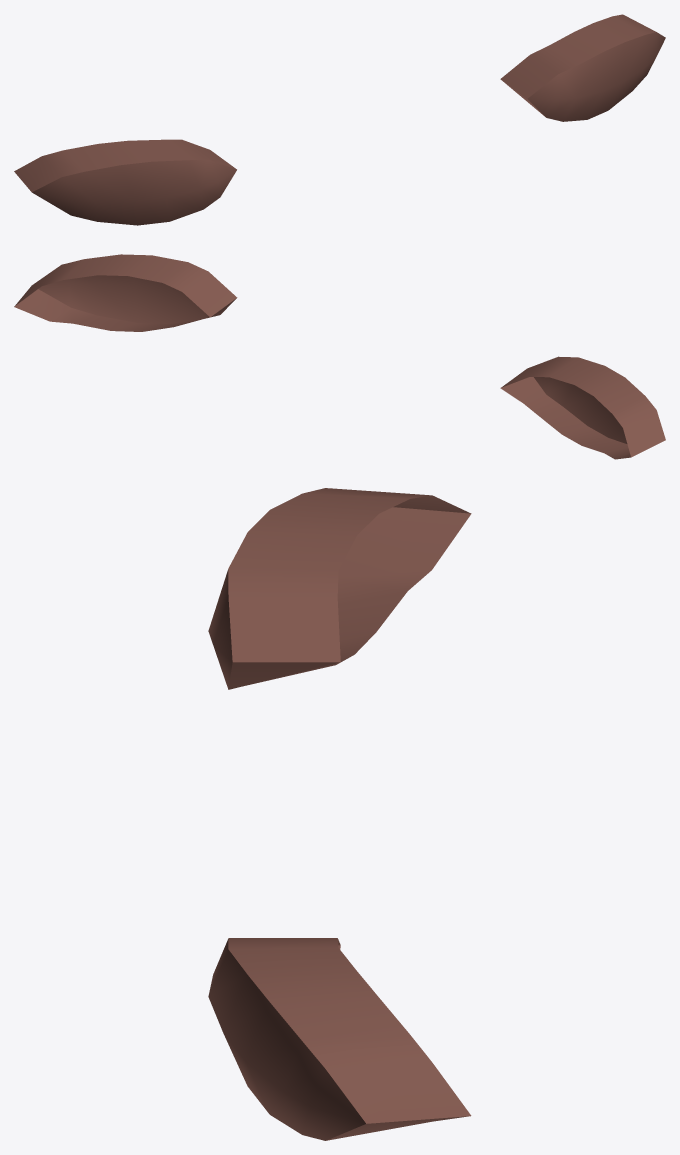
The model's file is Eyebrows.fbx.
3 views of the same model, one above another, from view 1: azimuth 30°, elevation 25°; view 2: azimuth 150°, elevation 25°; view 3: azimuth 270°, elevation 25° (orthographic). The views are drawn at different scales.
Visible parts, largest first — view 1: LMCEyebrow_R_Mesh; view 2: LMCEyebrow_R_Mesh; view 3: LMCEyebrow_R_Mesh.
Boxes of the visible parts, left/top/right/bottom form: LMCEyebrow_R_Mesh: left=14, top=14, right=665, bottom=225; LMCEyebrow_R_Mesh: left=14, top=254, right=665, bottom=459; LMCEyebrow_R_Mesh: left=208, top=488, right=471, bottom=1140.
Bounding box in the file's own units: 11.46 × 1.14 × 2.06.
